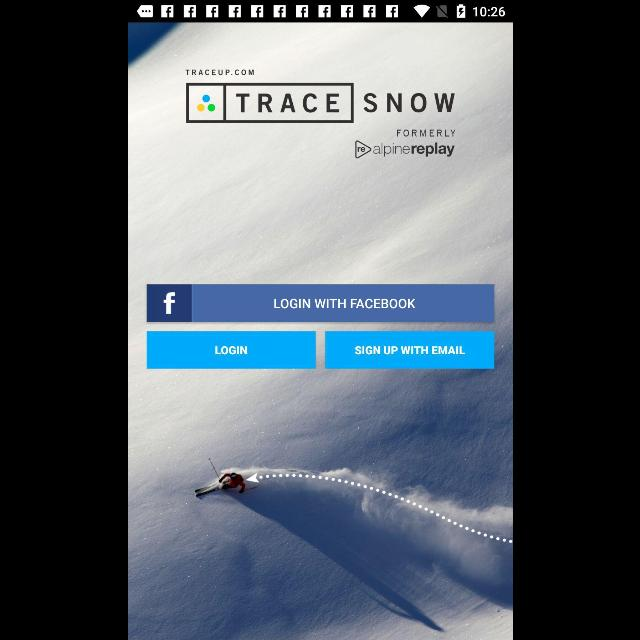backgroundimage: (128, 22, 512, 640)
image: (184, 69, 456, 159)
textbutton: (146, 284, 494, 322), (324, 331, 493, 369), (147, 331, 316, 369)
uppertaskbar: (128, 1, 512, 23)
